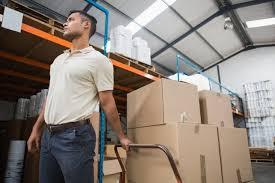Boxes: (126, 129, 223, 183), (125, 75, 201, 128), (217, 126, 255, 183), (201, 88, 237, 128)
